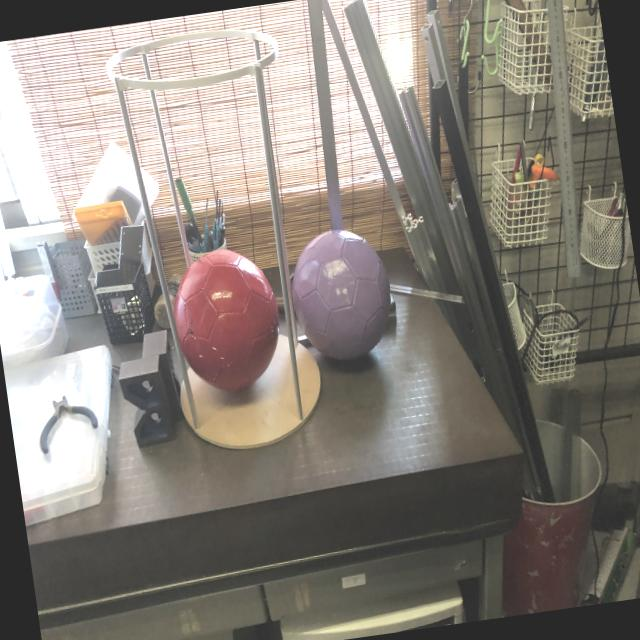purple_ball: (284, 226, 400, 370)
red_ball: (167, 244, 290, 401)
